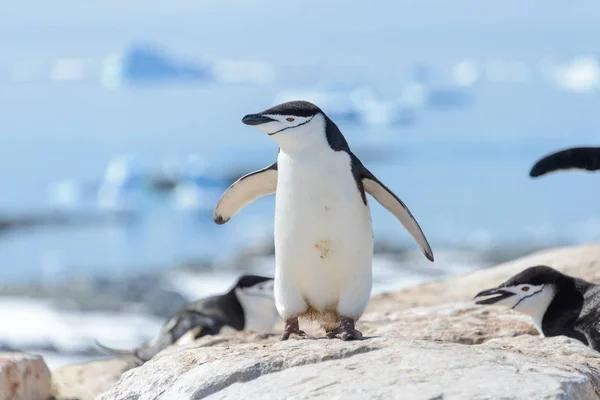Penguin: (214, 101, 433, 340), (94, 274, 276, 367), (475, 266, 599, 350)
